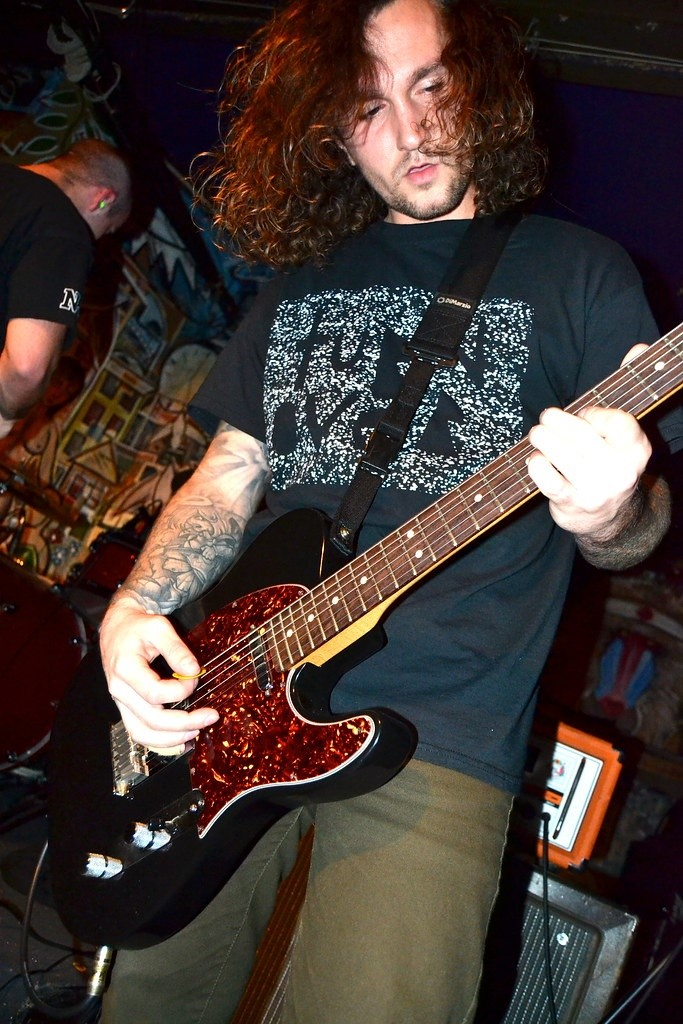face_no_mask: (303, 0, 504, 218)
